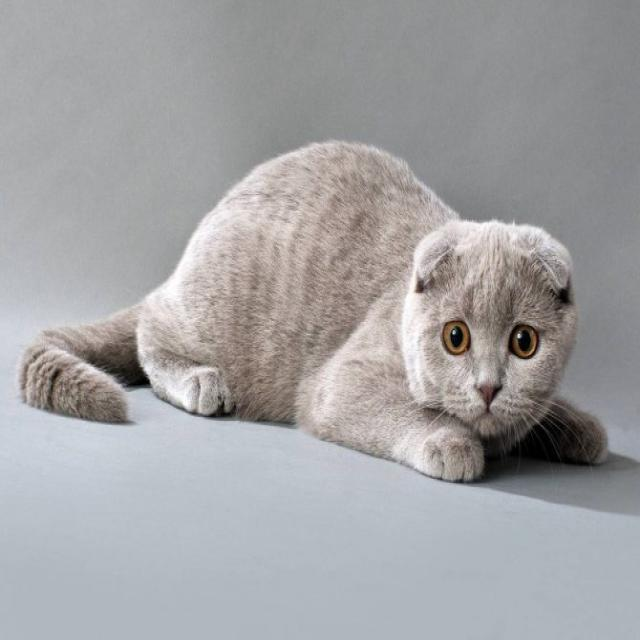Cats: (18, 141, 608, 483)
